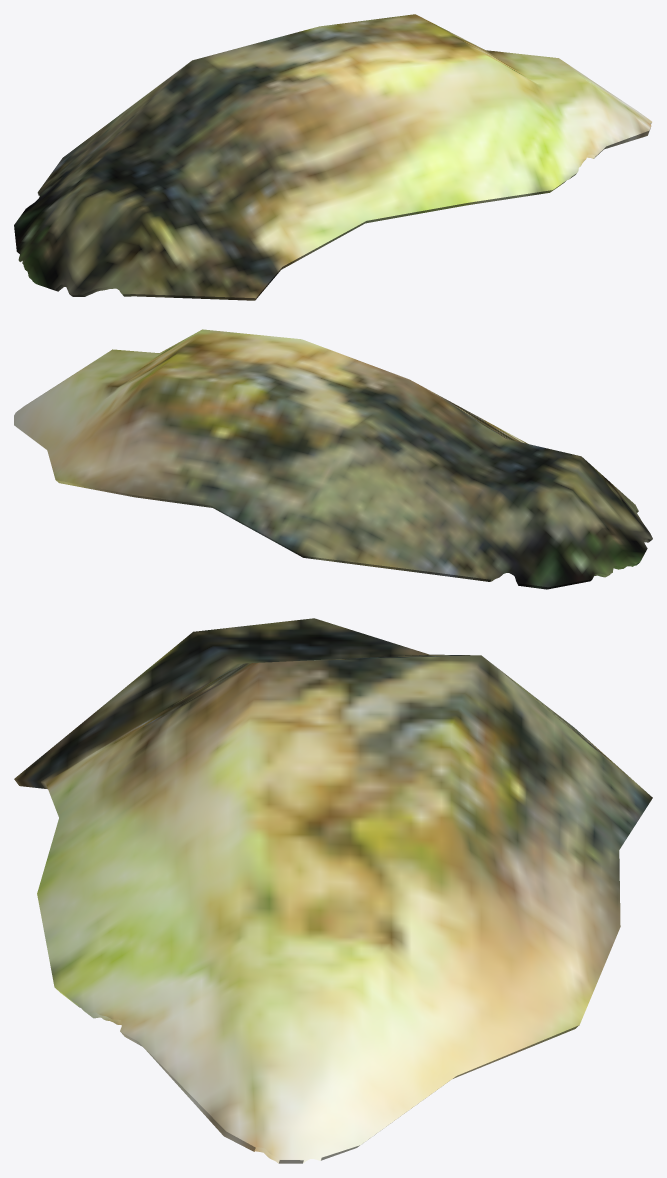
Rendered from bad_lettuce.FBX.
3 renders of one model, top to bottom at view 1: azimuth 30°, elevation 25°; view 2: azimuth 150°, elevation 25°; view 3: azimuth 270°, elevation 25°, orthographic. The views are drawn at different scales.
Visible parts, largest first — view 1: bad_lettuce; view 2: bad_lettuce; view 3: bad_lettuce.
Boxes of the visible parts, <box> form: bad_lettuce: <box>14,14,651,300</box>; bad_lettuce: <box>14,329,652,589</box>; bad_lettuce: <box>14,618,652,1163</box>.
Size of the model in its own units: 20.88 by 4.4 by 11.32.
